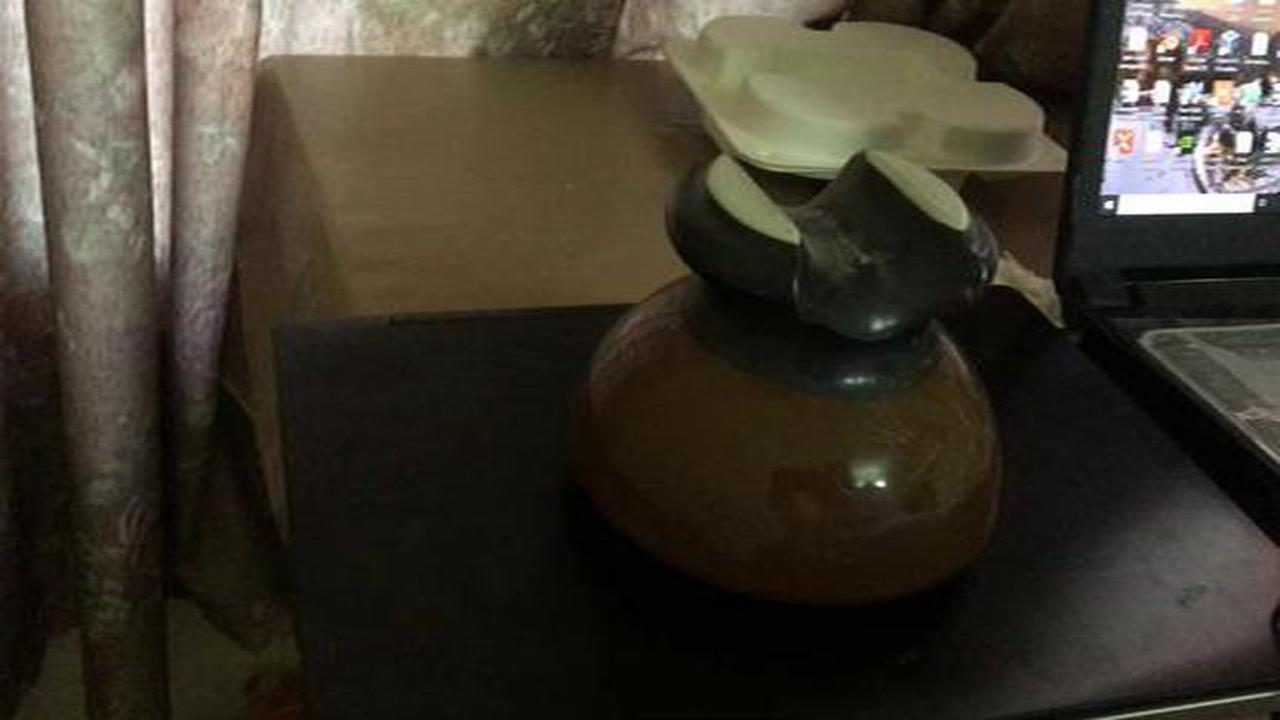insulator_pin: (539, 120, 1047, 618)
